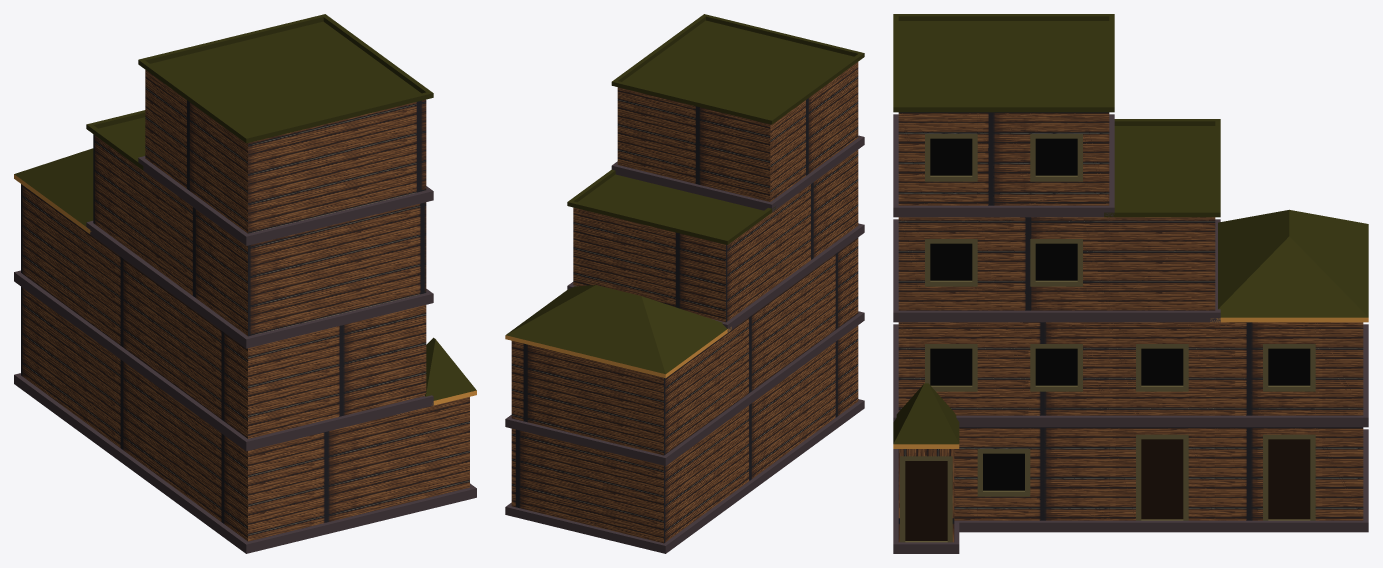
Rendered from buil3.glb.
3 renders of one model, left to right at view 1: azimuth 30°, elevation 25°; view 2: azimuth 150°, elevation 25°; view 3: azimuth 270°, elevation 25°, orthographic. The views are drawn at different scales.
Parts seen in each view (by area): view 1: building_004; view 2: building_004; view 3: building_004.
Part boxes in pixels (x1,y1,x2,y2): building_004: (14, 14, 476, 553); building_004: (505, 14, 864, 553); building_004: (893, 14, 1368, 553).
Bounding box in the file's own units: 5.17 × 8.9 × 9.02.
Materials: 7 (1 with a texture image).
